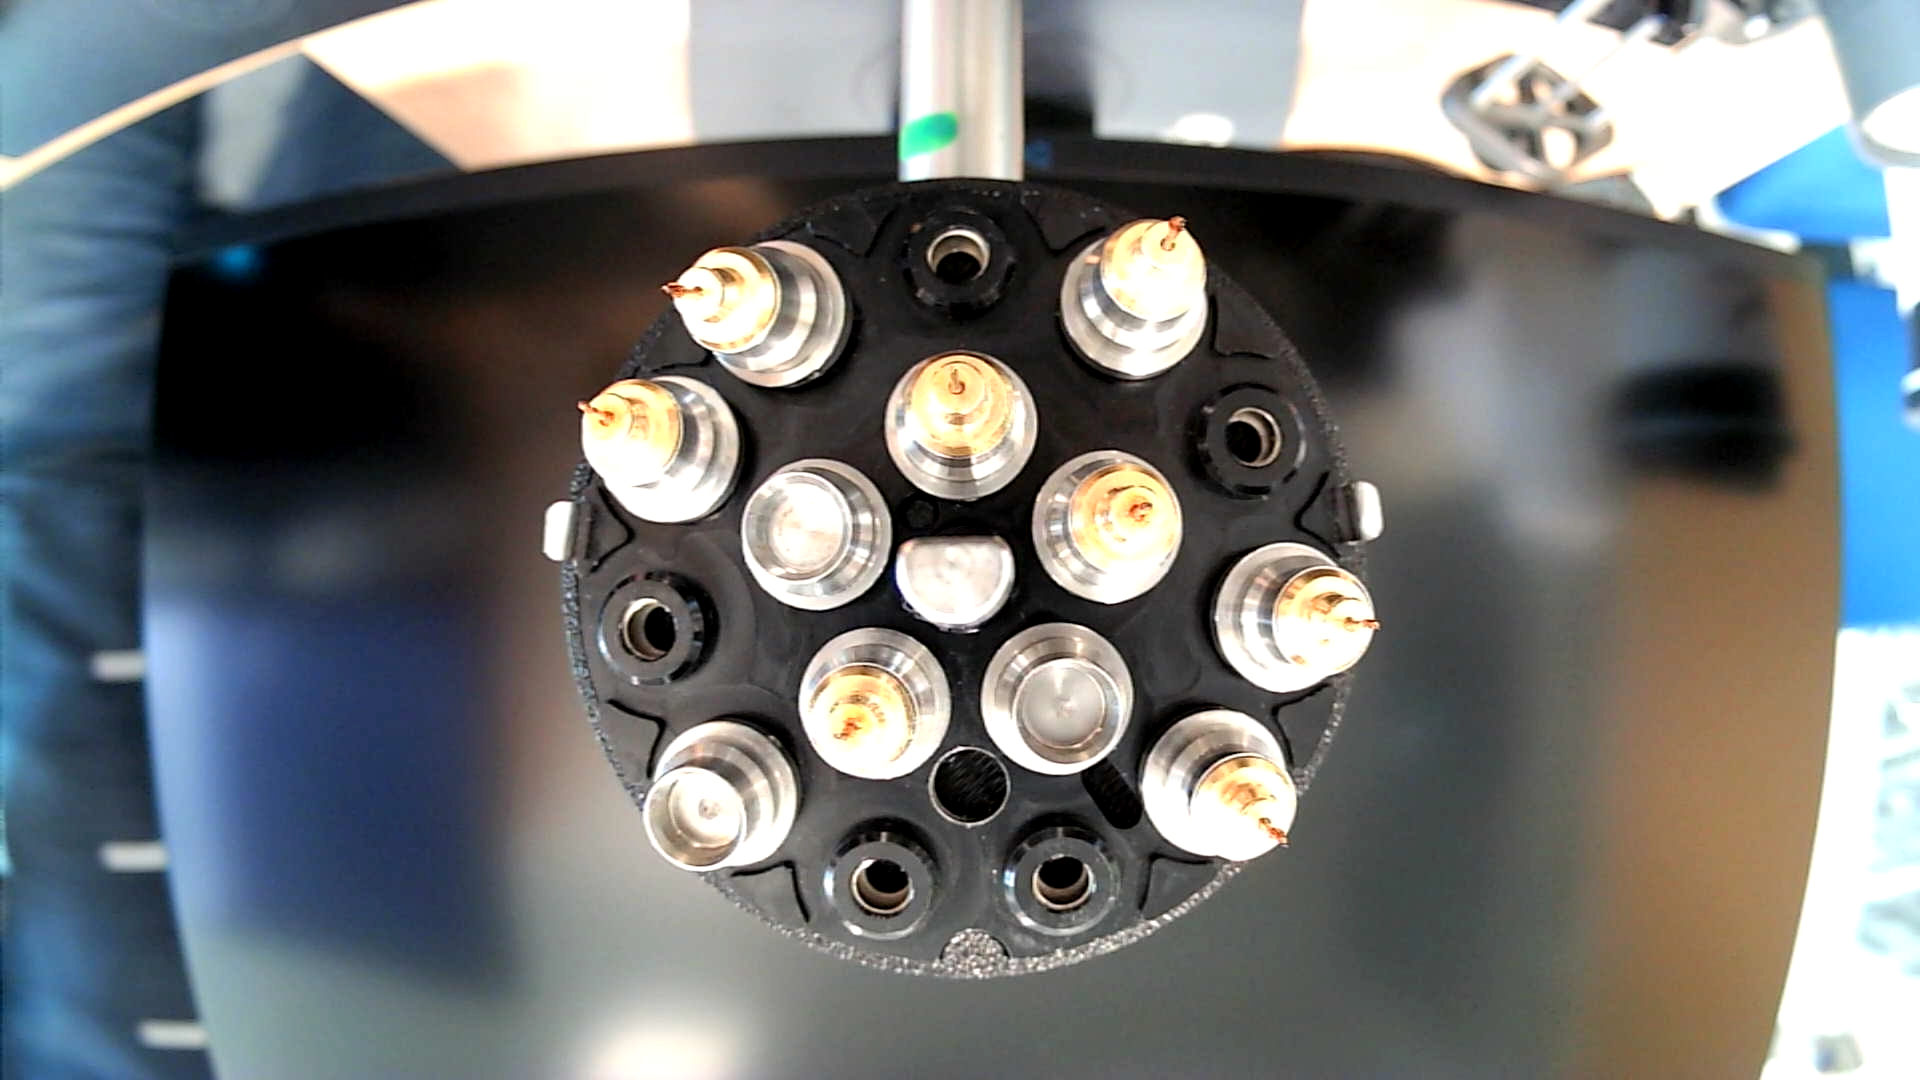adapter: (638, 716, 796, 876), (978, 622, 1133, 781), (740, 455, 894, 613)
empty: (1176, 378, 1311, 512), (818, 814, 949, 949), (891, 202, 1029, 332), (996, 812, 1127, 945), (589, 566, 723, 692)
hole: (928, 742, 1011, 831)
misplaced: (665, 240, 855, 392)
pin: (1207, 546, 1379, 703), (578, 364, 746, 522), (1064, 214, 1215, 385), (1135, 709, 1296, 868), (884, 345, 1044, 502), (793, 624, 952, 781), (1030, 448, 1184, 607)
rod: (893, 529, 1018, 642)
